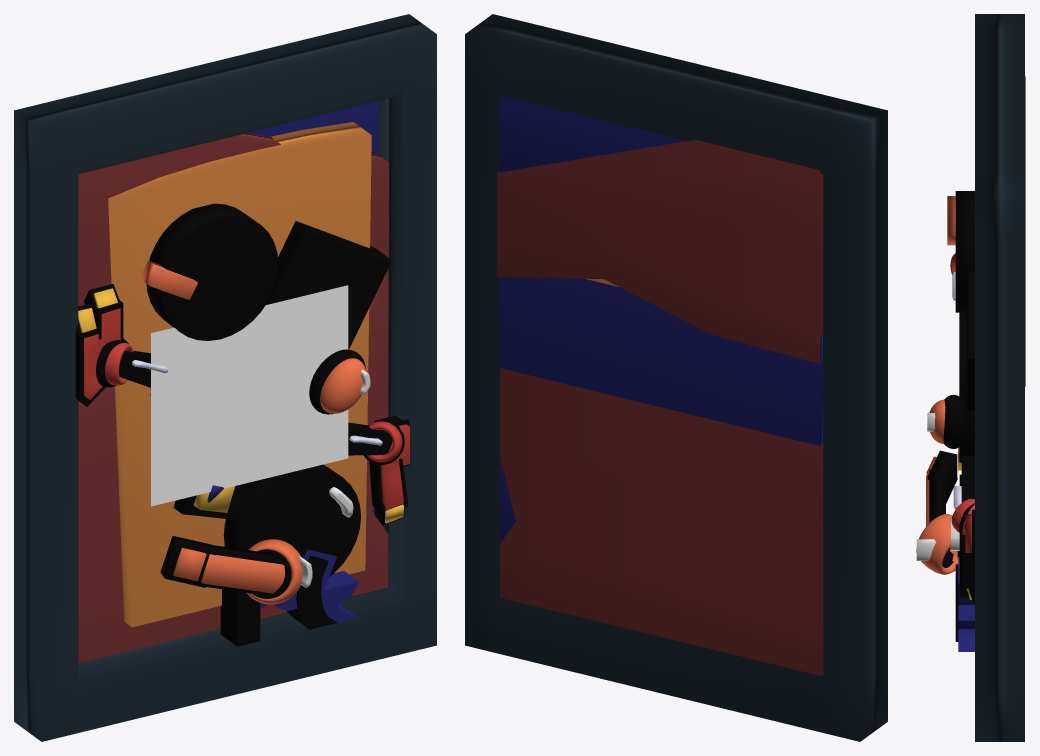
Rendered from mickey cubista .glb.
3 views of the same model, side by side, from view 1: azimuth 30°, elevation 25°; view 2: azimuth 150°, elevation 25°; view 3: azimuth 270°, elevation 25° (orthographic). The views are drawn at different scales.
Visible parts, largest first — view 1: Cube.021, Cube.003, carita, Cube.005, Sphere, Cube.004, Sphere.001, Cube.010, Cube.026, Cube.017, Cube.006, Cube.019 (+15 smaller); view 2: Cube.021, Cube.005, Cube.004, Cube.007, Cube.006, Cube.008; view 3: Cube.021, Sphere, Torus.003, Sphere.002, Cube.010, Cube.019, Cube.016, Sphere.005, Cube.015, Cube.020, Cube.030, Sphere.006 (+8 smaller).
Part boxes in pixels (x1,y1,x2,y2): Cube.021: [14, 14, 436, 741]; Cube.003: [108, 122, 371, 627]; carita: [151, 285, 348, 506]; Cube.005: [78, 271, 388, 662]; Sphere: [146, 203, 278, 340]; Cube.004: [78, 133, 388, 306]; Sphere.001: [223, 464, 360, 576]; Cube.010: [266, 221, 391, 349]; Cube.026: [201, 554, 285, 593]; Cube.017: [220, 589, 260, 646]; Cube.006: [248, 101, 378, 154]; Cube.019: [260, 549, 358, 622]; Cube.021: [465, 14, 887, 741]; Cube.005: [500, 368, 823, 675]; Cube.004: [497, 139, 823, 363]; Cube.007: [499, 277, 823, 446]; Cube.006: [499, 95, 686, 172]; Cube.008: [500, 457, 515, 543]; Cube.021: [975, 14, 1024, 741]; Sphere: [955, 191, 974, 312]; Torus.003: [916, 514, 958, 574]; Sphere.002: [943, 394, 969, 448]; Cube.010: [967, 271, 974, 410]; Cube.019: [958, 556, 974, 651]; Cube.016: [927, 450, 957, 503]; Sphere.005: [960, 312, 967, 405]; Cube.015: [929, 469, 945, 560]; Cube.020: [961, 456, 974, 502]; Cube.030: [963, 509, 974, 588]; Sphere.006: [929, 399, 945, 443].
Size of the model in its own units: 12.89 by 19.05 by 3.41.
